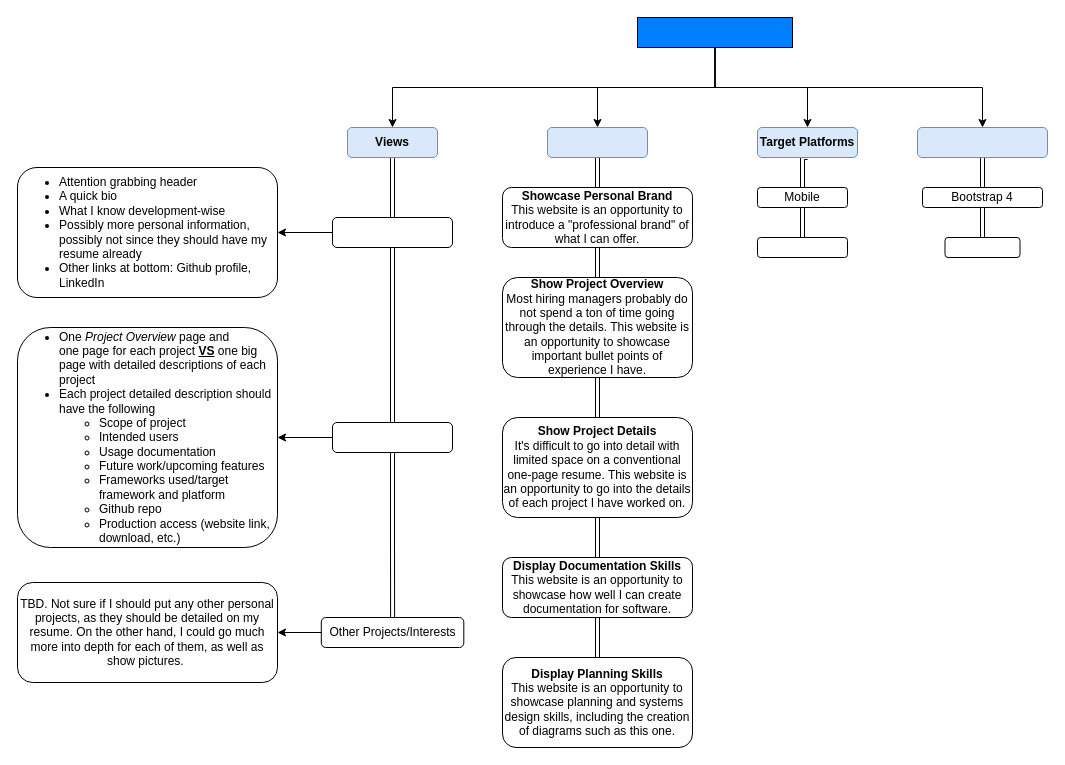
Image size: 1065x765. Some labels were removed from this diagram. The box of each missing label's shape, as (x1, y1, x2, y2) in pixels:
About Me: (332, 216, 452, 248)
Desktop: (756, 236, 848, 258)
Frameworks/Libraries: (916, 126, 1048, 158)
Functions/Scope: (546, 126, 648, 158)
JQuery: (944, 236, 1020, 258)
My Portfolio: (636, 16, 792, 48)
Software Projects: (332, 422, 452, 452)
